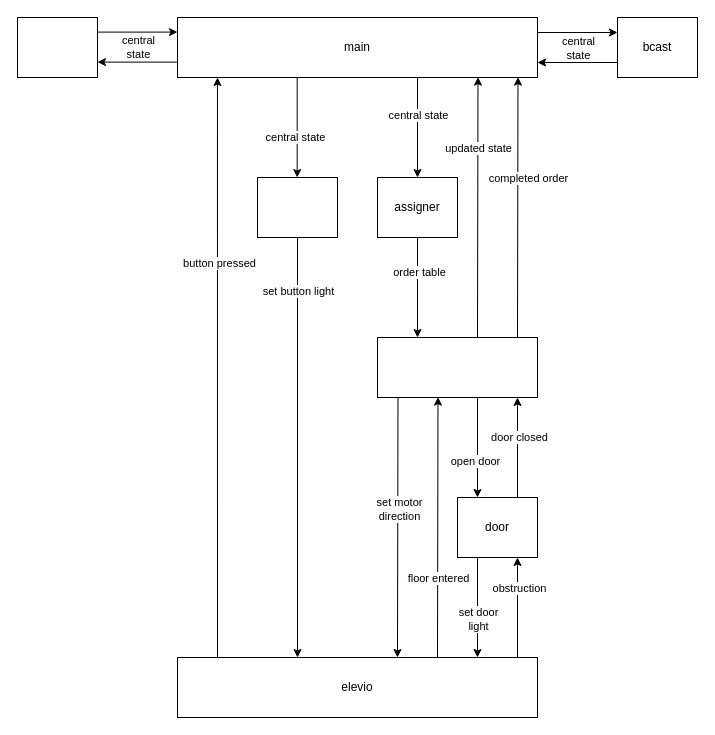
Some shapes in this 715 by 735 pixel diagram are drawn without their labels. Each missing label, with the centre of its shape:
elevator: the point at 457,367
lights: the point at 297,207
skv: the point at 57,47
